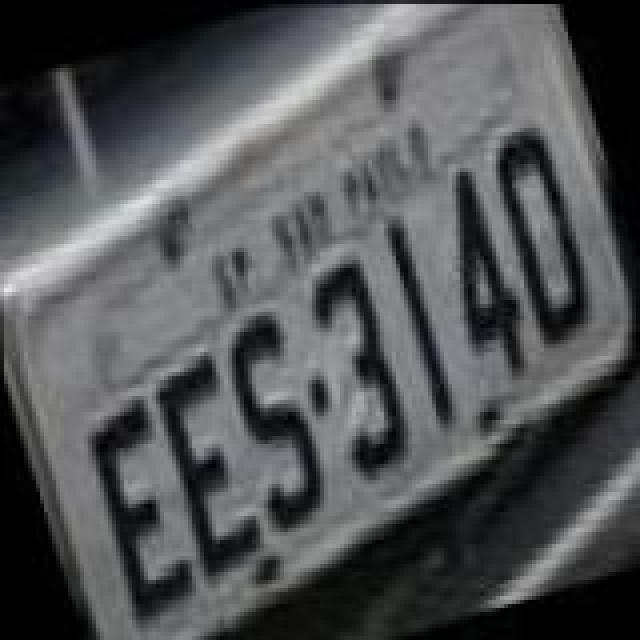1: (370, 206, 462, 430)
3: (292, 250, 424, 486)
4: (416, 154, 540, 390)
E: (64, 386, 204, 626), (134, 342, 274, 582)
O: (476, 116, 608, 356)
S: (210, 300, 342, 540)
